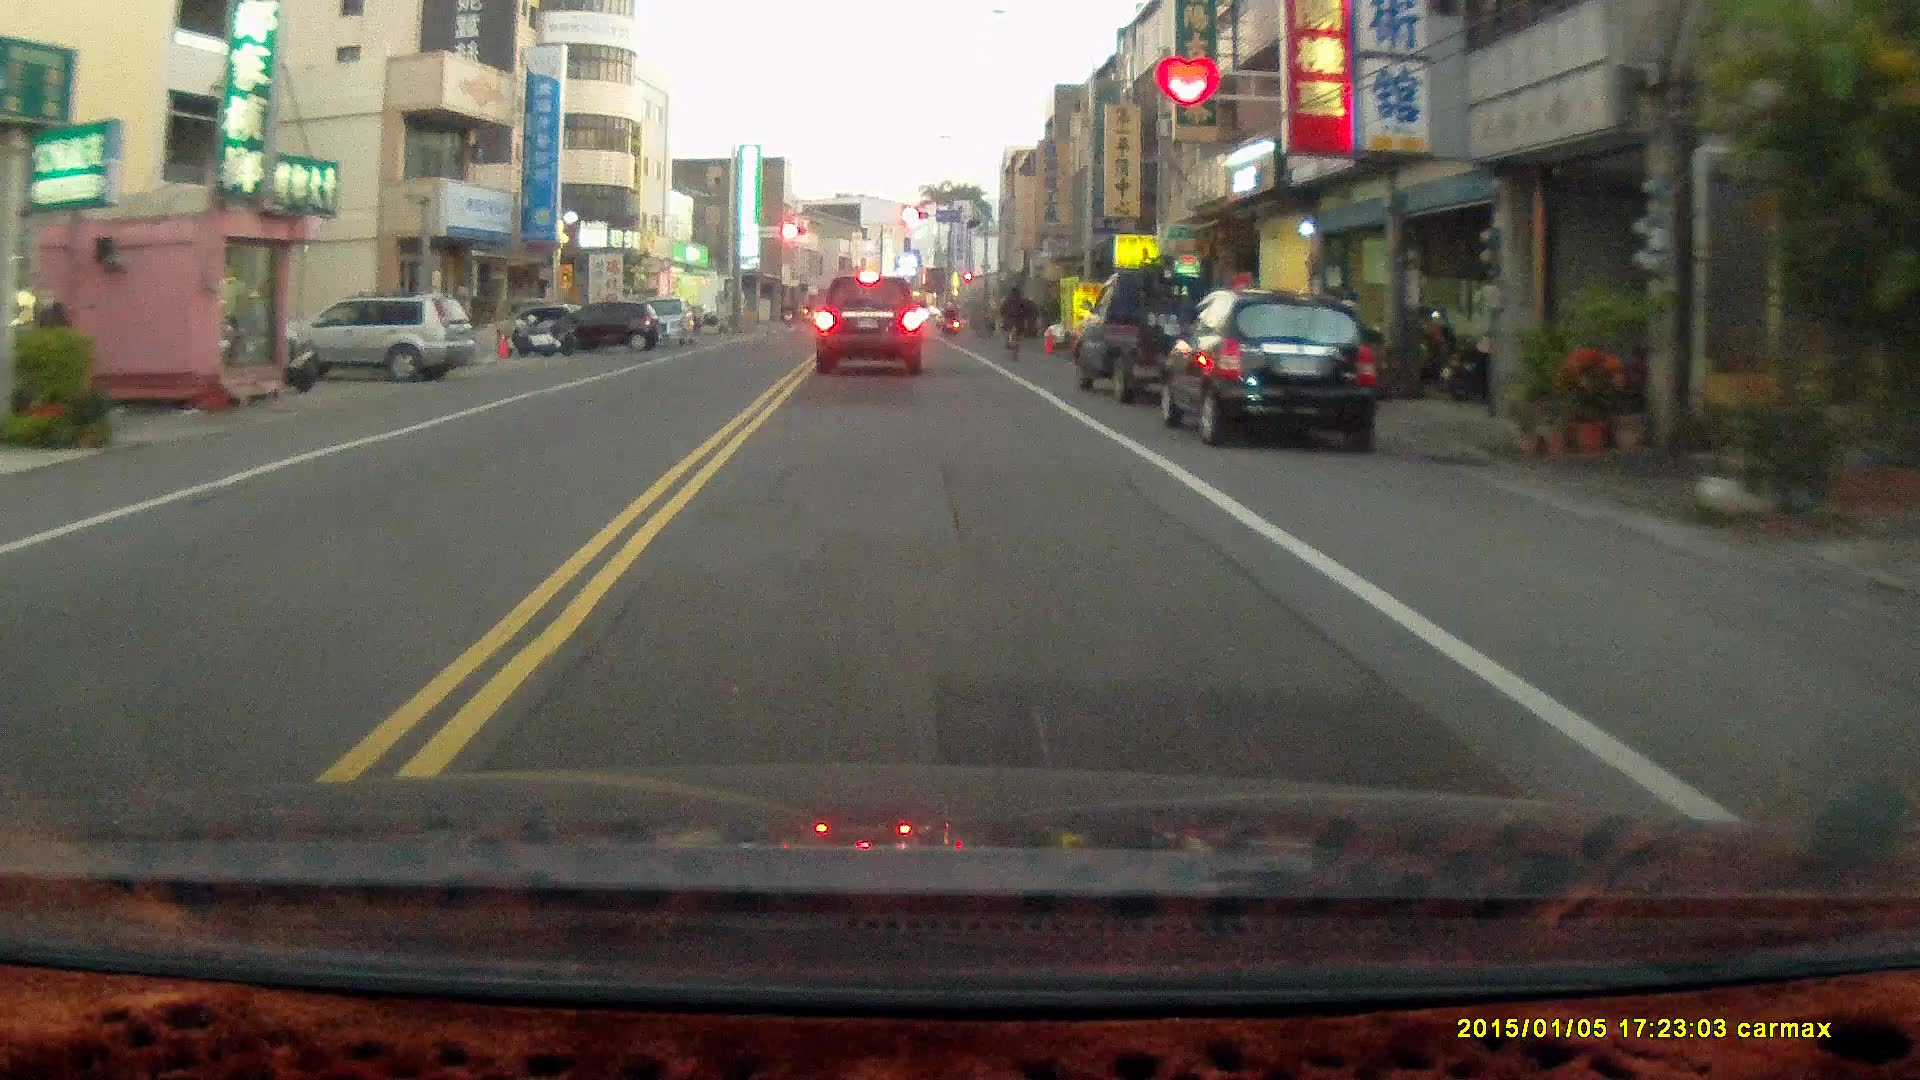rider: (997, 283, 1031, 365)
vehicle: (1167, 289, 1384, 447), (1074, 265, 1261, 402), (274, 293, 478, 383), (815, 276, 925, 377), (533, 297, 660, 354)
